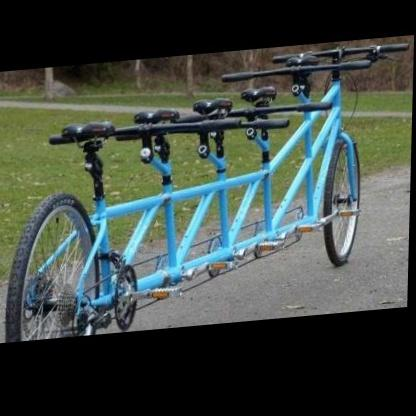Bicycle: (0, 55, 409, 318)
